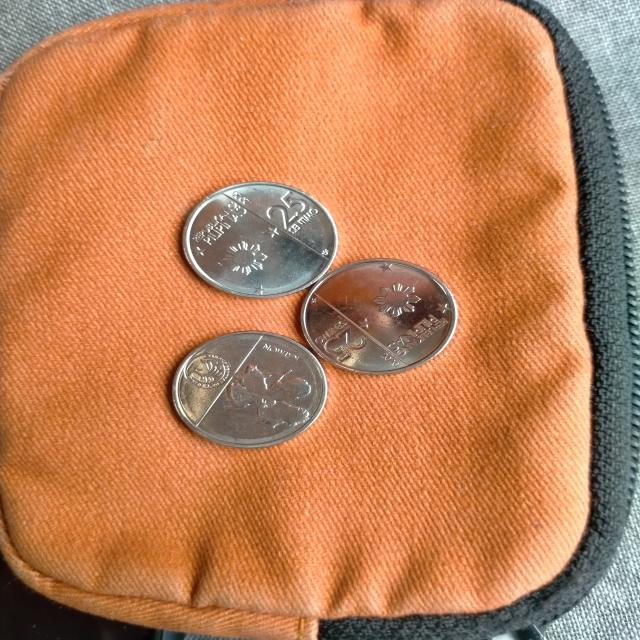25Cent_New_Back: (232, 355, 314, 428)
25Cent_New_Front: (259, 188, 323, 242), (310, 316, 377, 366)
